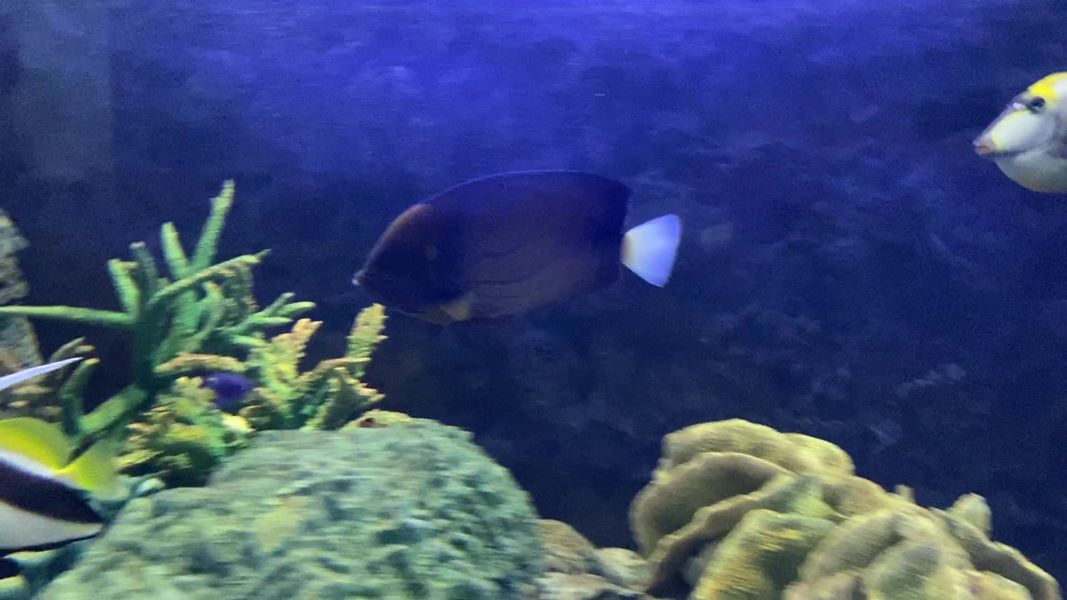Blue ring angelfish: (335, 169, 703, 342)
